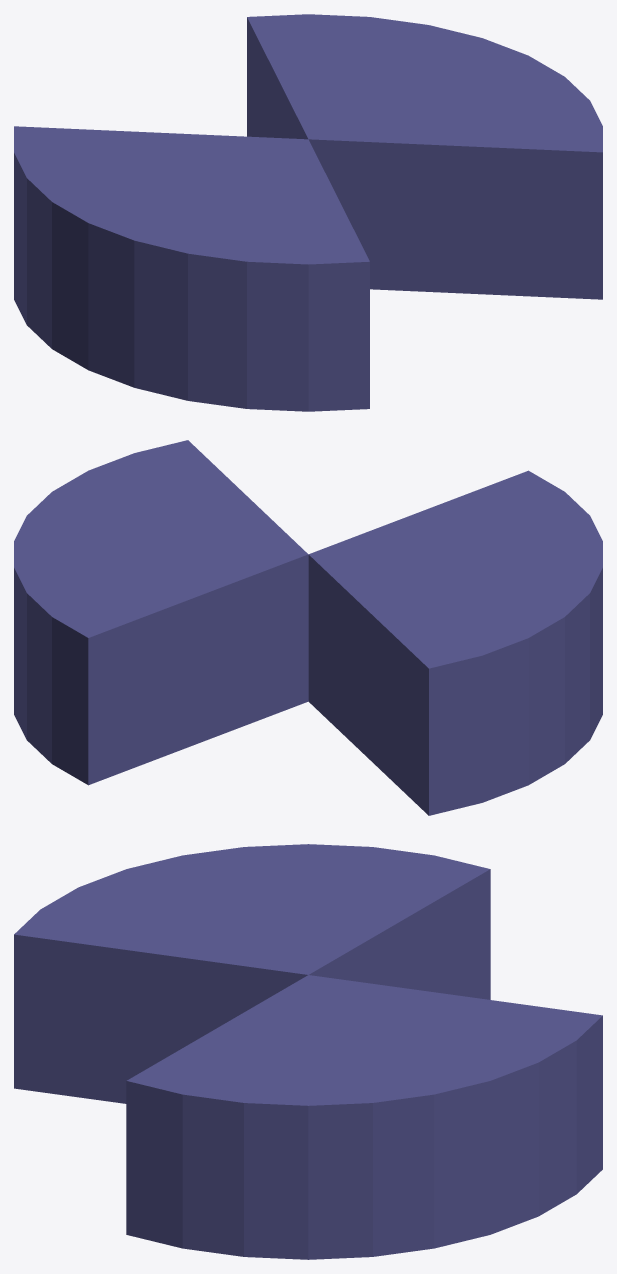
The model's file is HelixJumpV6.fbx.
3 views of the same model, one above another, from view 1: azimuth 30°, elevation 25°; view 2: azimuth 150°, elevation 25°; view 3: azimuth 270°, elevation 25° (orthographic). The views are drawn at different scales.
Parts seen in each view (by area): view 1: v6; view 2: v6; view 3: v6.
Boxes of the visible parts, <box> form: v6: <box>14,14,602,411</box>; v6: <box>14,440,602,815</box>; v6: <box>14,844,602,1259</box>.
Size of the model in its own units: 532 by 146 by 506.
